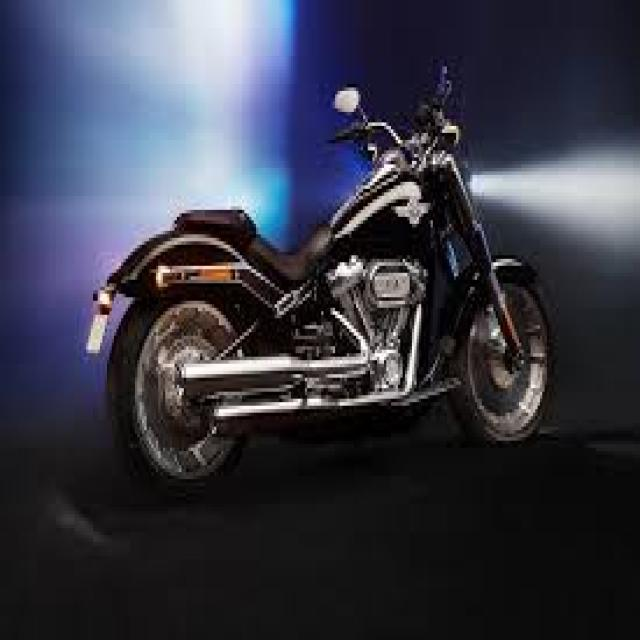MOTORCYCLE: (99, 119, 565, 487)
